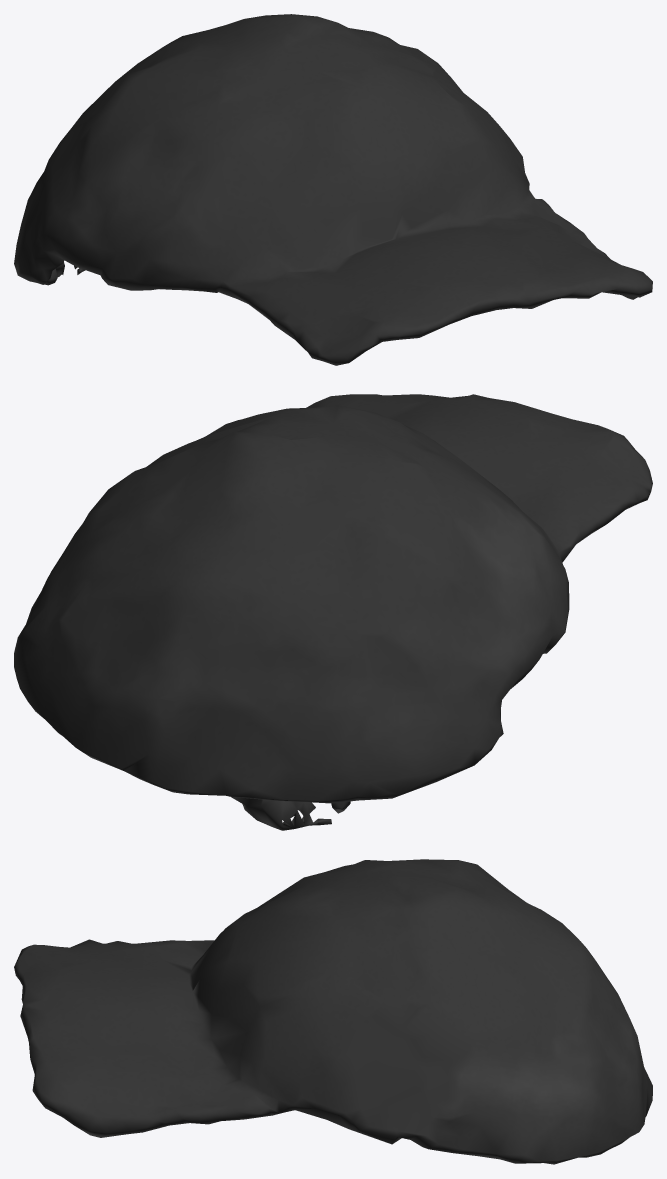
File: cap monochrome.glb
3 views of the same model, one above another, from view 1: azimuth 30°, elevation 25°; view 2: azimuth 150°, elevation 25°; view 3: azimuth 270°, elevation 25° (orthographic). The views are drawn at different scales.
Parts seen in each view (by area): view 1: cap_monochrome.001; view 2: cap_monochrome.001; view 3: cap_monochrome.001.
Part boxes in pixels (x1,y1,x2,y2): cap_monochrome.001: (14,14,652,365); cap_monochrome.001: (14,394,652,830); cap_monochrome.001: (14,859,652,1164).
Size of the model in its own units: 0.3437 by 0.208 by 0.461.
Materials: 1 (1 with a texture image).
